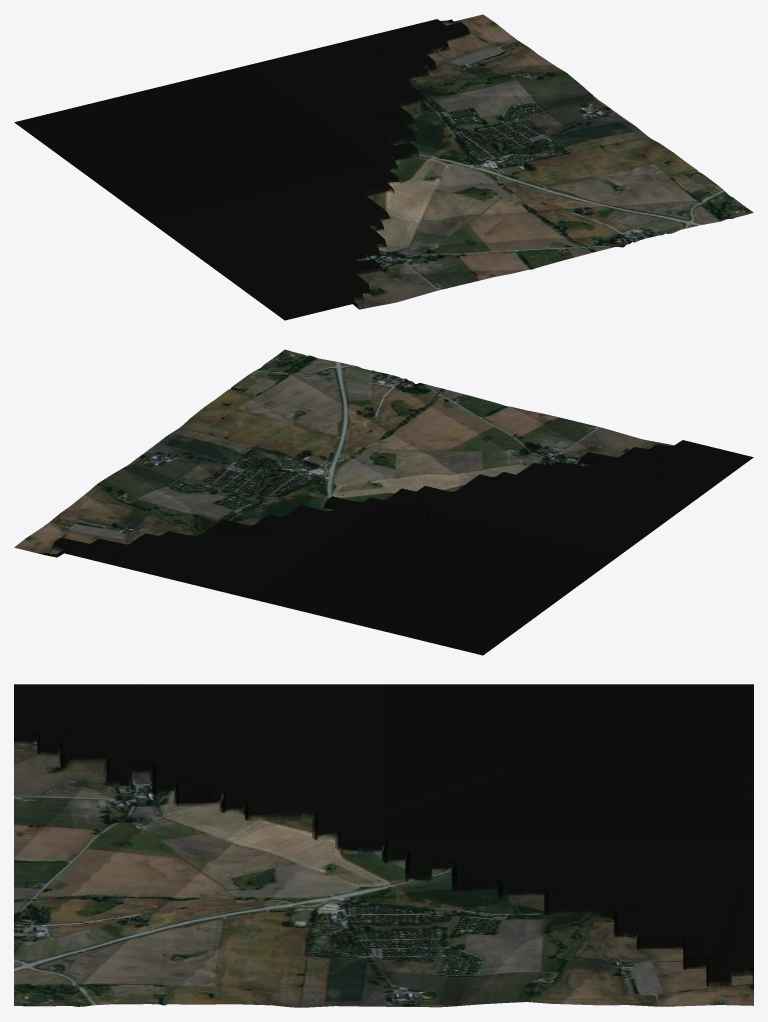
The model's file is map_10_249_429.dae.
The picture shows the model from 3 angles, top to bottom: view 1: azimuth 30°, elevation 25°; view 2: azimuth 150°, elevation 25°; view 3: azimuth 270°, elevation 25°; orthographic projection. The views are drawn at different scales.
Parts seen in each view (by area): view 1: Ter0; view 2: Ter0; view 3: Ter0.
Boxes of the visible parts, box(x1,y1,x2,y2) form: Ter0: box(14, 14, 753, 320); Ter0: box(14, 349, 753, 655); Ter0: box(14, 684, 753, 1007).
Size of the model in its own units: 2044 by 2044 by 52.44.
Materials: 3 (3 with a texture image).
